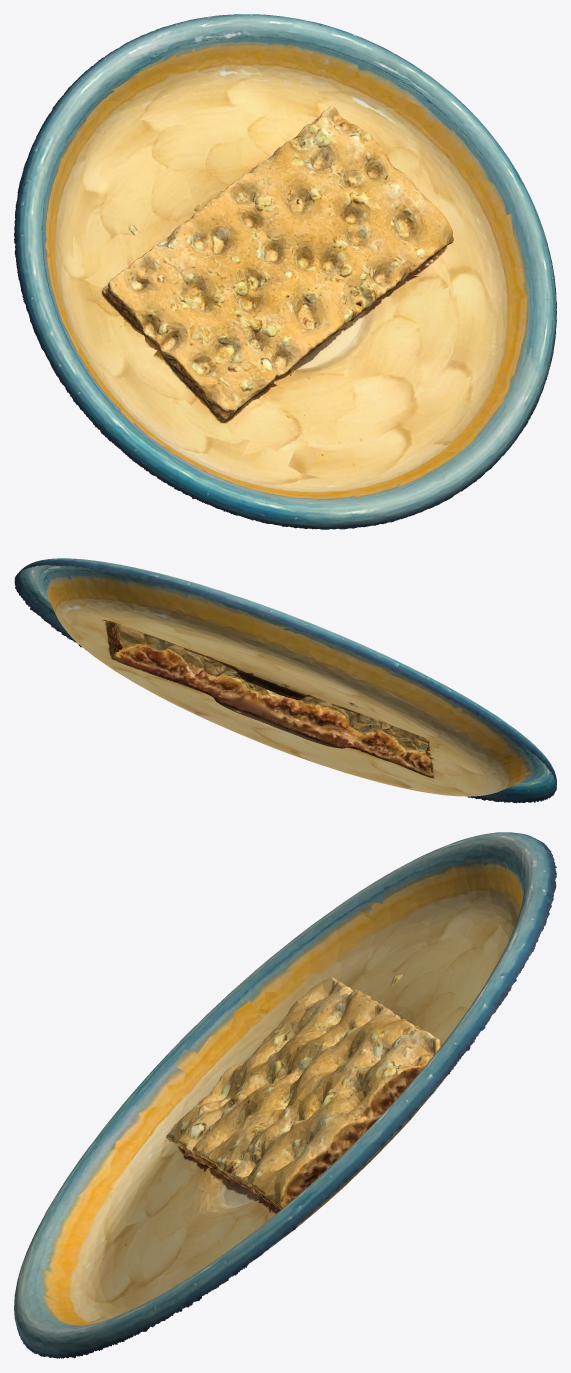
Rendered from Knaeckebrot.fbx.
3 views of the same model, one above another, from view 1: azimuth 30°, elevation 25°; view 2: azimuth 150°, elevation 25°; view 3: azimuth 270°, elevation 25° (orthographic). The views are drawn at different scales.
Visible parts, largest first — view 1: Knaeckebrot_tex_high; view 2: Knaeckebrot_tex_high; view 3: Knaeckebrot_tex_high.
Part boxes in pixels (x1,y1,x2,y2): Knaeckebrot_tex_high: (14,14,556,529); Knaeckebrot_tex_high: (14,558,556,803); Knaeckebrot_tex_high: (14,832,556,1358).
Bounding box in the file's own units: 19.81 × 13.35 × 14.91.
